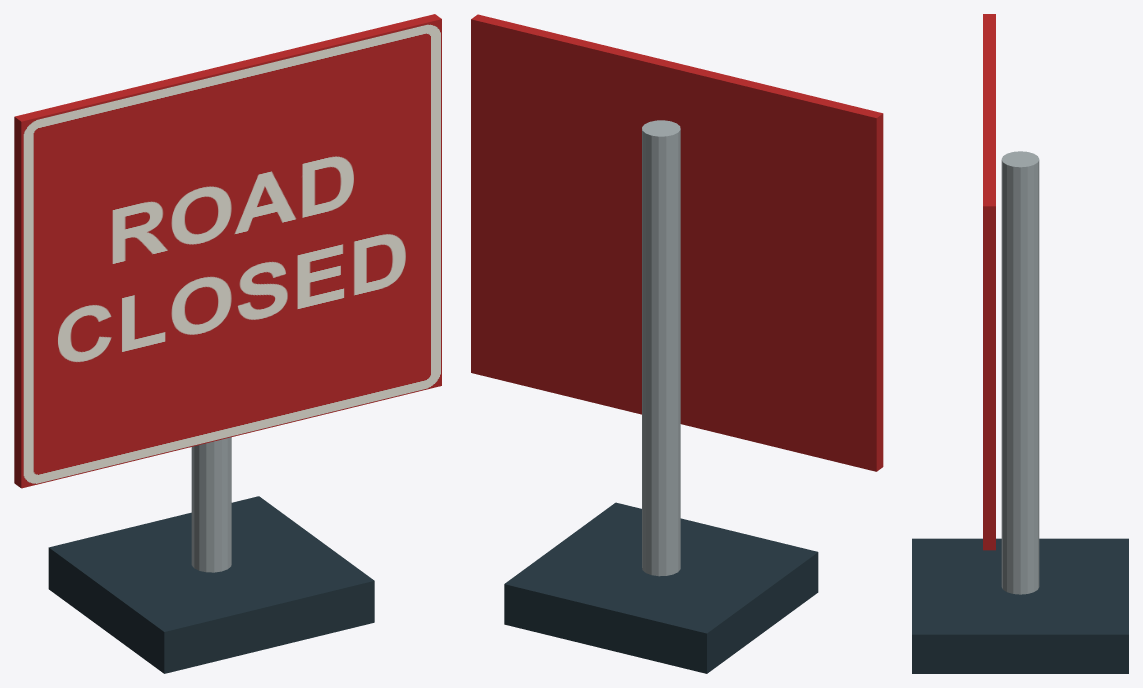
The model's file is scendance-plan-road-closed.glb.
3 views of the same model, side by side, from view 1: azimuth 30°, elevation 25°; view 2: azimuth 150°, elevation 25°; view 3: azimuth 270°, elevation 25° (orthographic). The views are drawn at different scales.
Bounding box in the file's own units: 0.84 × 1.05 × 0.4.
Materials: 4 (1 with a texture image).
